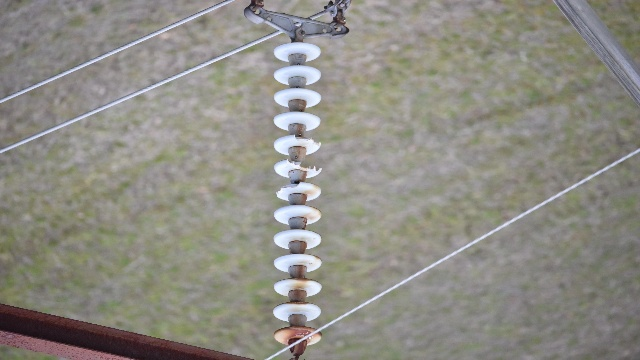broken_local: (284, 156, 323, 175), (273, 178, 303, 199), (289, 134, 322, 148)
insulator_unspecified: (271, 43, 326, 345)
